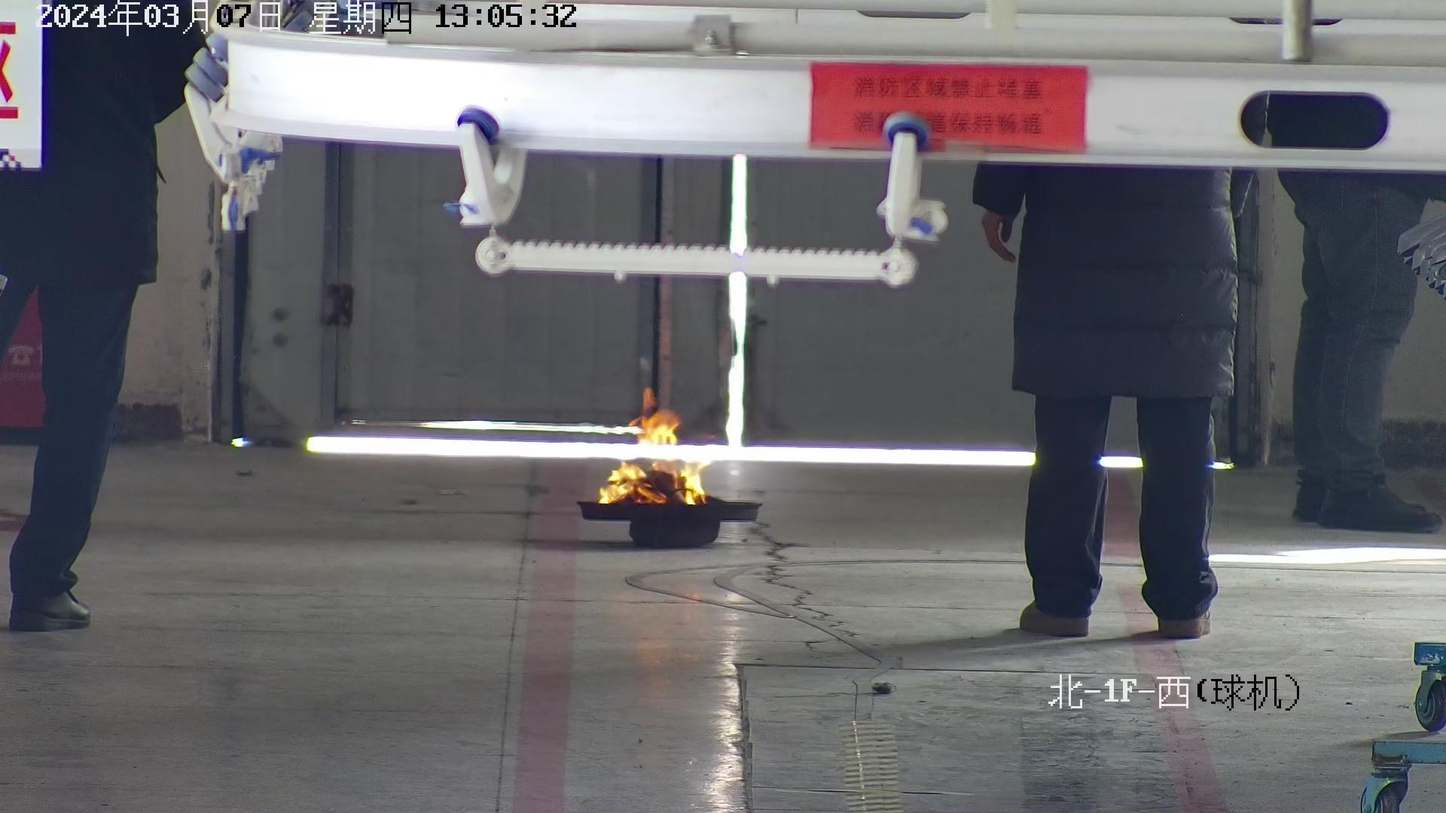fire: (598, 456, 709, 503), (630, 388, 680, 447)
